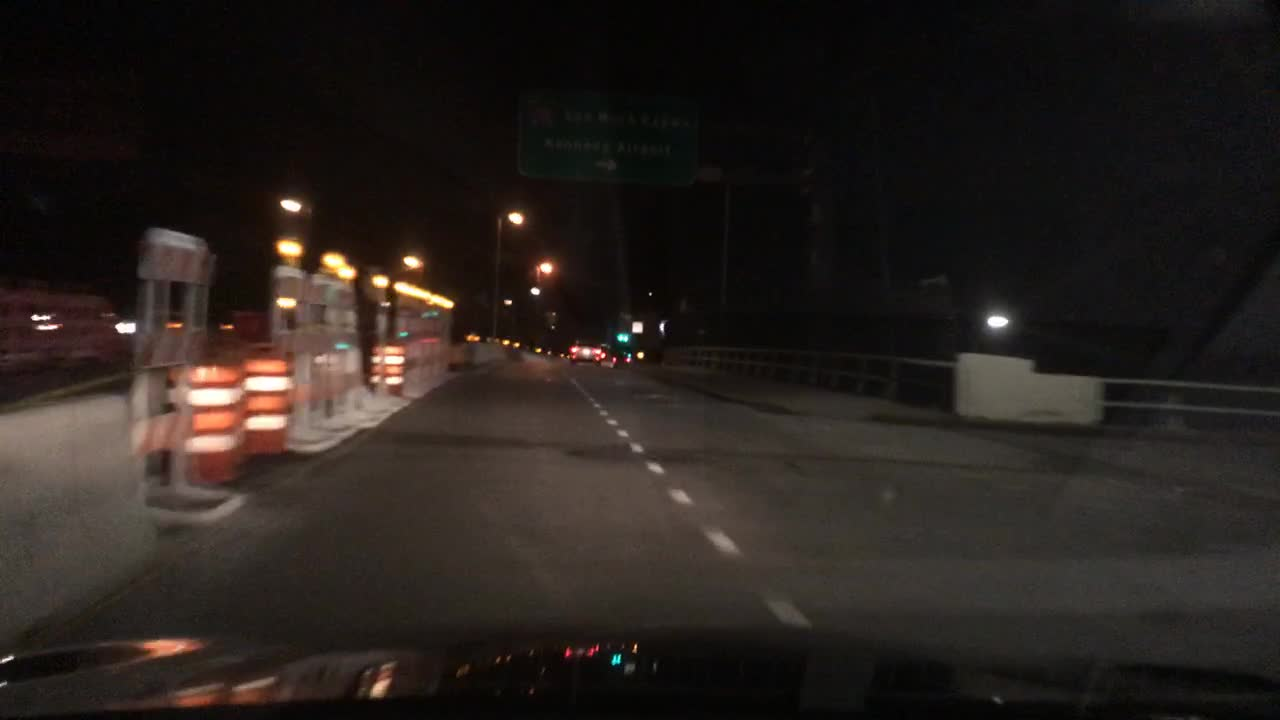car: (1, 275, 127, 385), (568, 341, 606, 364)
traffic light: (614, 332, 633, 344)
traffic sign: (515, 86, 703, 189)
